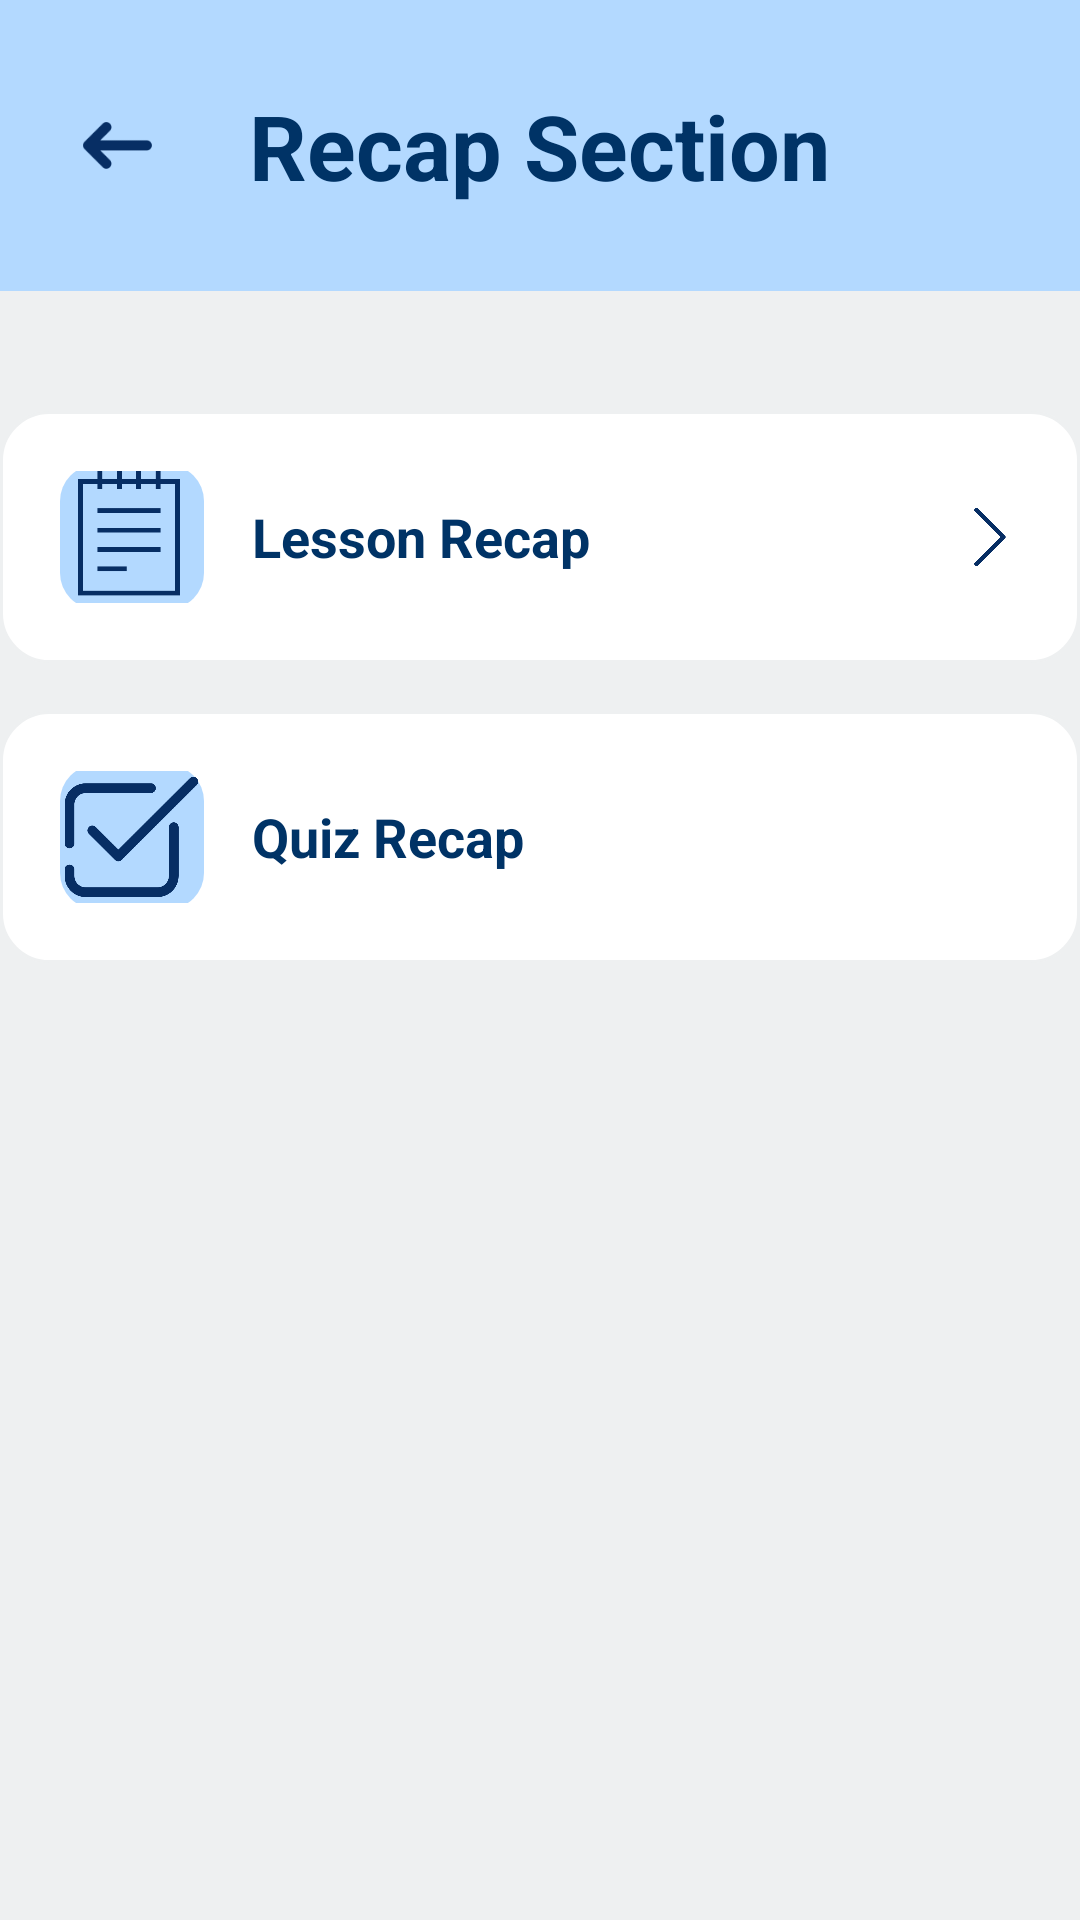

Icons on this 1080×1920 Android screen, each with its box as (x1, y1, x2, y2):
arrow lesson: (974, 508, 1006, 566)
Back: (83, 122, 152, 169)
